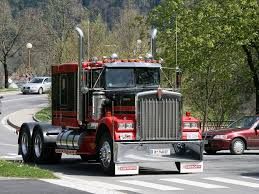Car: (203, 116, 259, 154), (21, 77, 51, 94)
Truck: (18, 28, 204, 175)
